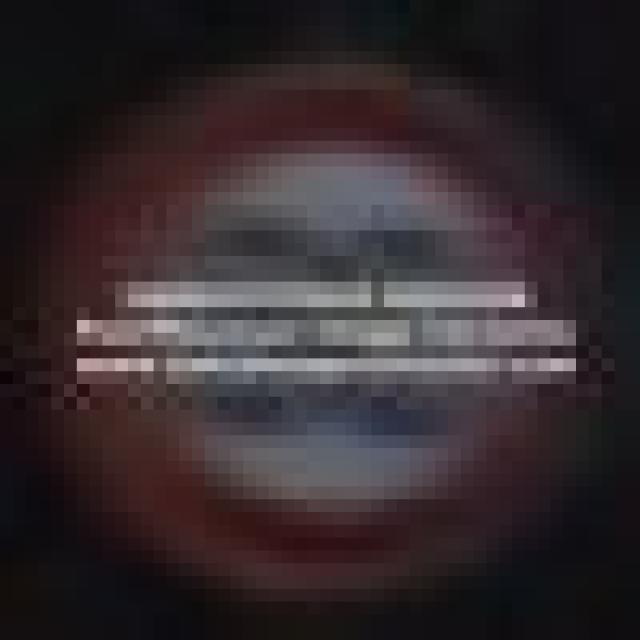speed_limit_50: (26, 51, 602, 563)
